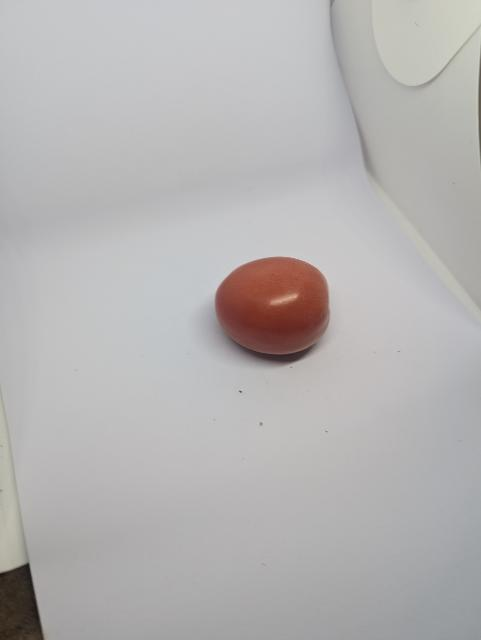red: (209, 250, 345, 366)
